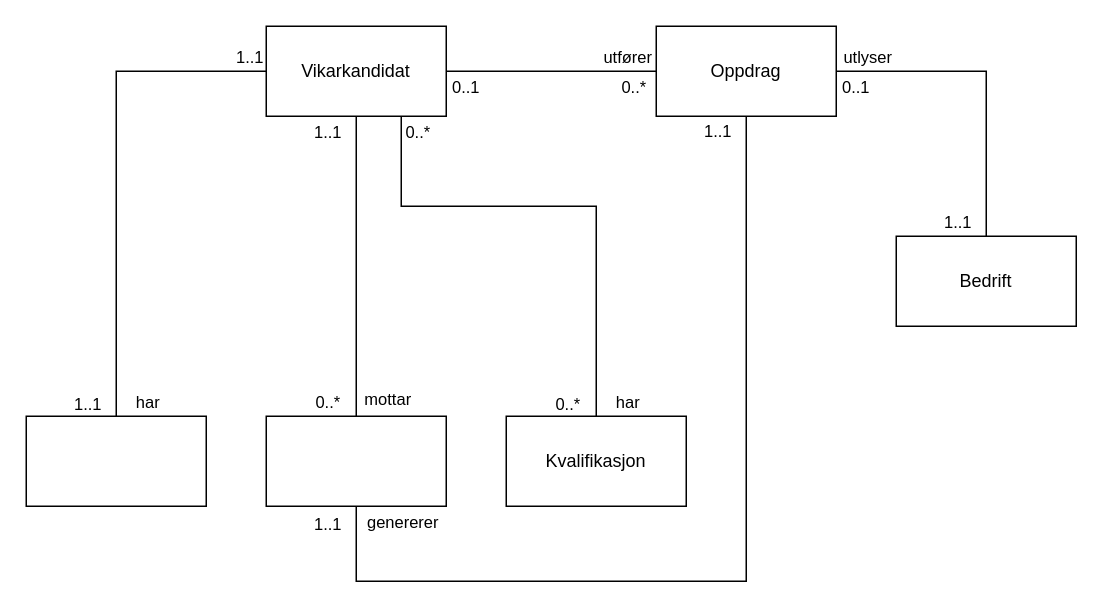
Some shapes in this 1103 by 609 pixel diagram are drawn without their labels. The shapes that lost their labels are listed below. From the top down, each one's box as (x1, y1, x2, y2) in pixels, then its label:
(25, 415, 206, 506): Jobbhistorikk
(265, 415, 446, 506): Sluttattest
